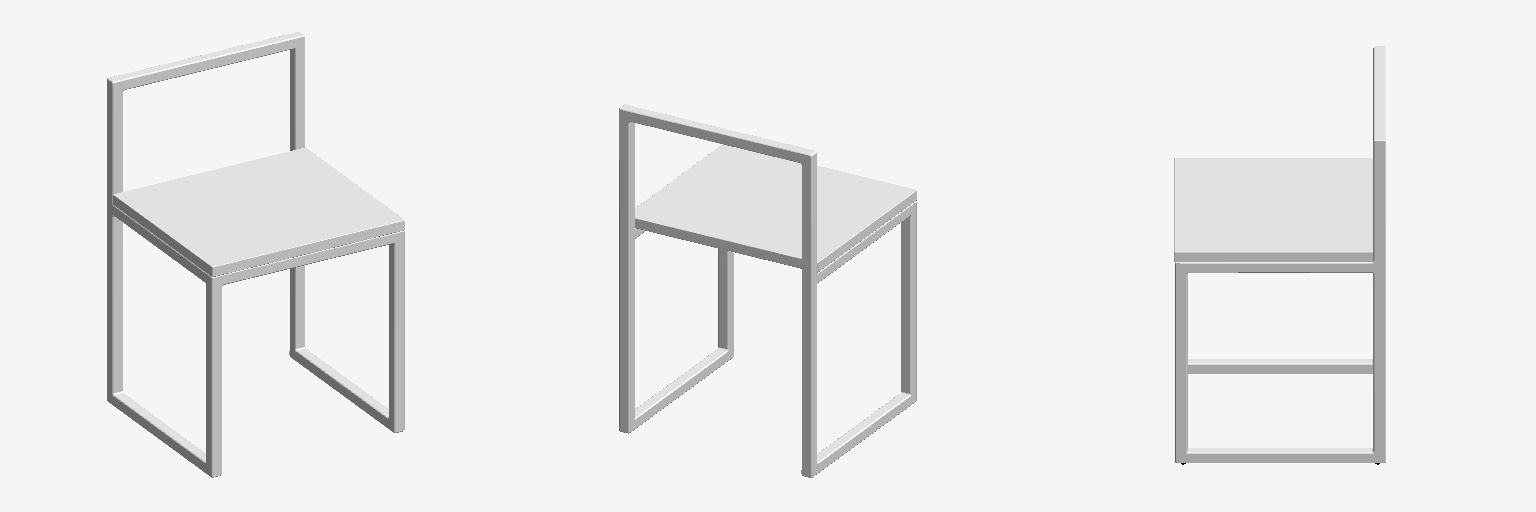
The model's file is cappellini_fronzoni_64__FR11_obj.obj.
3 views of the same model, side by side, from view 1: azimuth 30°, elevation 25°; view 2: azimuth 150°, elevation 25°; view 3: azimuth 270°, elevation 25° (orthographic).
Parts seen in each view (by area): view 1: cappellini_fronzoni_64__FR11; view 2: cappellini_fronzoni_64__FR11; view 3: cappellini_fronzoni_64__FR11.
Part boxes in pixels (x1,y1,x2,y2): cappellini_fronzoni_64__FR11: (107, 32, 404, 477); cappellini_fronzoni_64__FR11: (619, 104, 916, 477); cappellini_fronzoni_64__FR11: (1174, 46, 1385, 464).
Size of the model in its own units: 45 by 72.5 by 42.7.